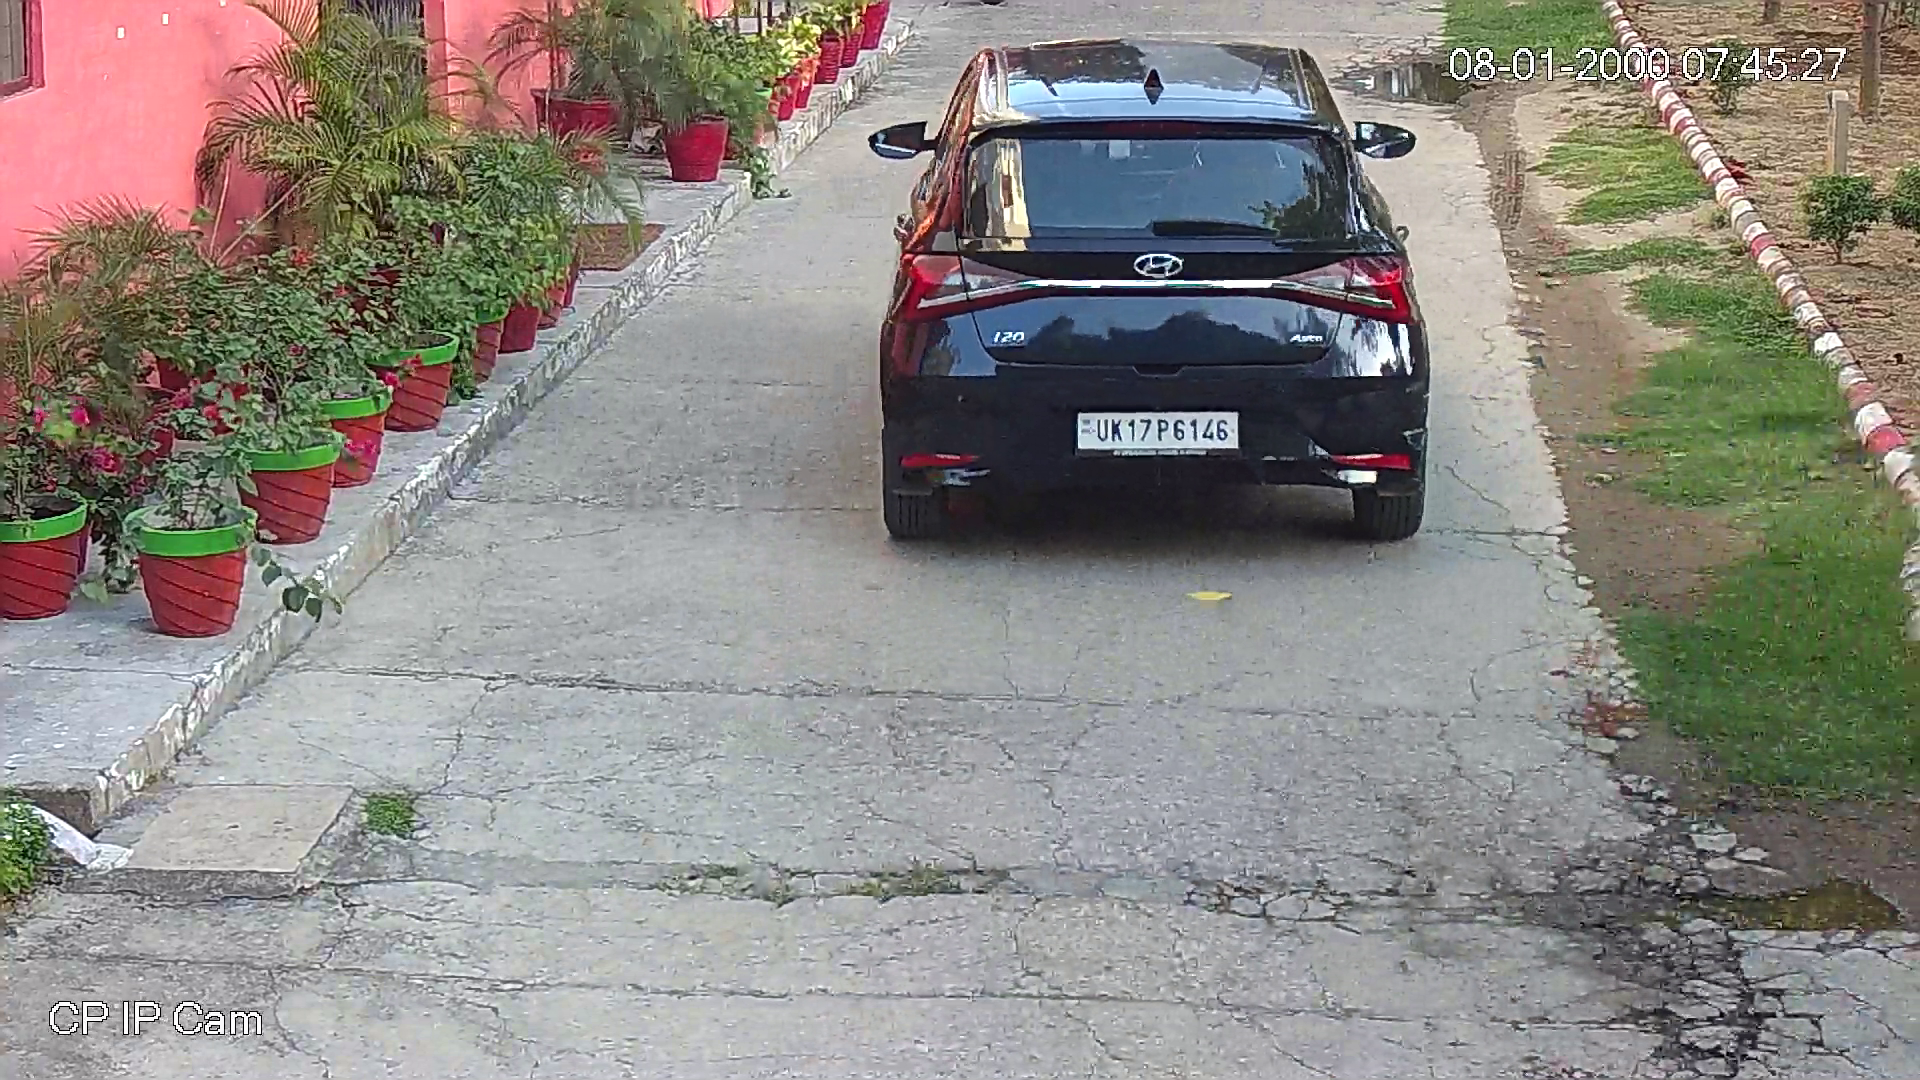plate: (1069, 403, 1242, 455)
